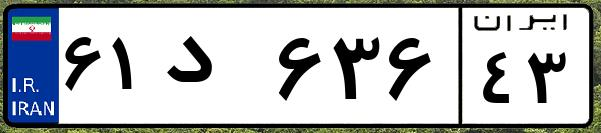1: (110, 28, 158, 98)
3: (330, 28, 385, 110), (525, 38, 570, 115)
4: (475, 38, 525, 113)
6: (270, 28, 330, 110), (385, 28, 445, 110), (57, 26, 110, 100)
د: (158, 20, 270, 120)
